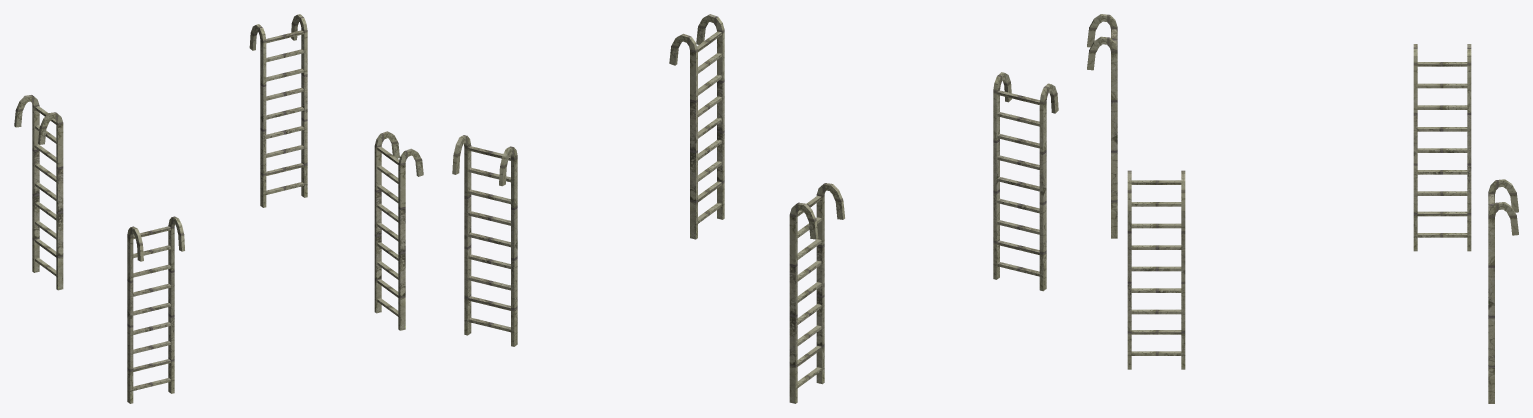
The model's file is SM_NeoLD_05_Ladder_00.fbx.
The picture shows the model from 3 angles, left to right: view 1: azimuth 30°, elevation 25°; view 2: azimuth 150°, elevation 25°; view 3: azimuth 270°, elevation 25°; orthographic projection. The views are drawn at different scales.
Visible parts, largest first — view 1: SM_NeoLD_05_Ladder_00; view 2: SM_NeoLD_05_Ladder_00; view 3: SM_NeoLD_05_Ladder_00.
Boxes of the visible parts, x1,y1,x2,y2 form: SM_NeoLD_05_Ladder_00: (14,14,423,403); SM_NeoLD_05_Ladder_00: (452,14,1058,403); SM_NeoLD_05_Ladder_00: (1087,14,1518,403).
Bounding box in the file's own units: 1158 × 570 × 1115.
